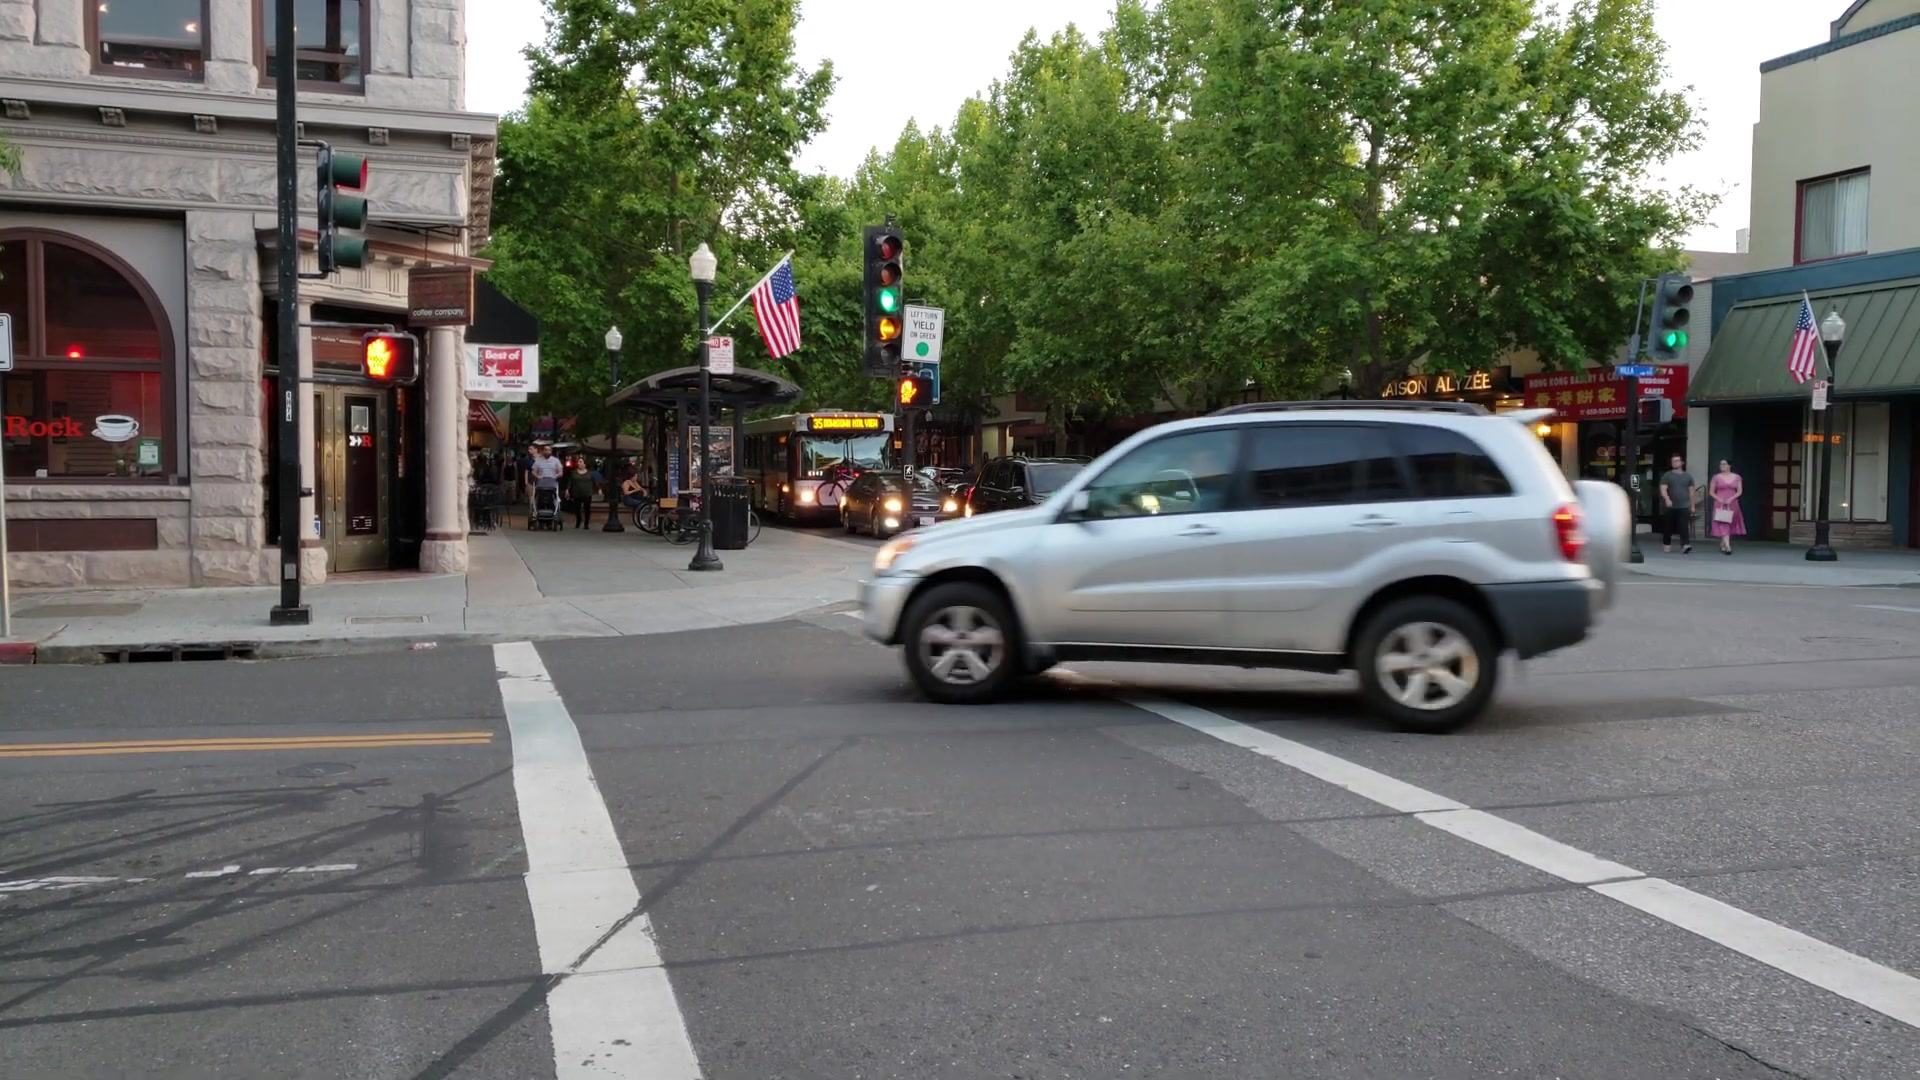vehicle: (866, 400, 1629, 735), (737, 406, 893, 525), (841, 473, 957, 542)
